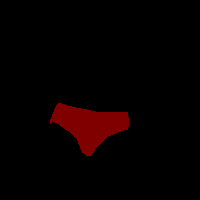mutande: (50, 102, 129, 156)
